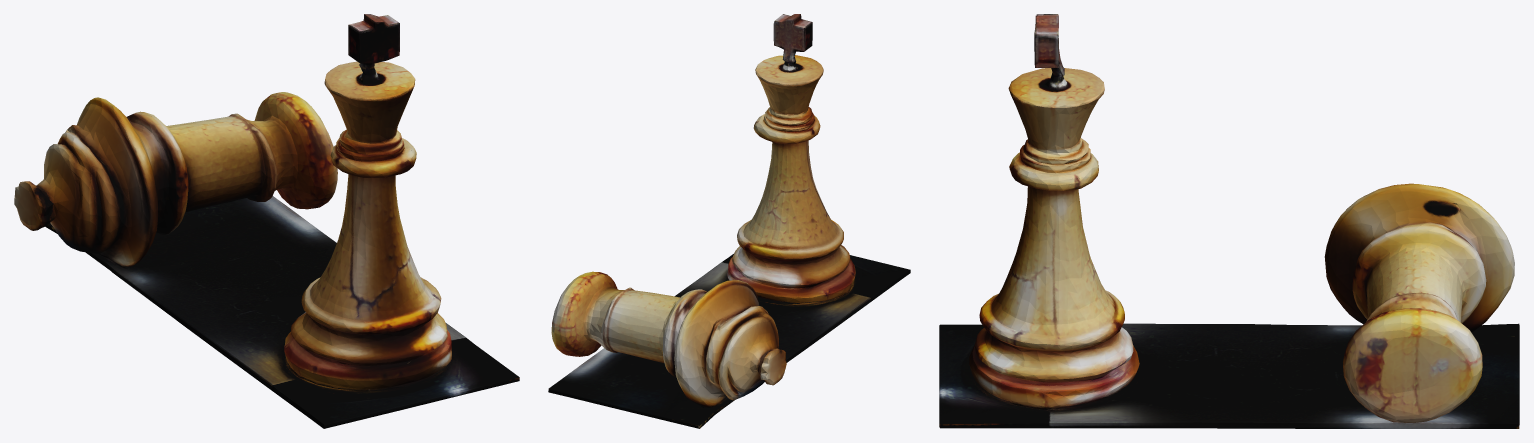
The model's file is porcelain-chess-piece-used-rustic-worn.jpeg.glb.
3 views of the same model, side by side, from view 1: azimuth 30°, elevation 25°; view 2: azimuth 150°, elevation 25°; view 3: azimuth 270°, elevation 25° (orthographic). The views are drawn at different scales.
Visible parts, largest first — view 1: world; view 2: world; view 3: world.
Boxes of the visible parts, x1,y1,x2,y2 form: world: [14, 14, 519, 428]; world: [548, 14, 910, 428]; world: [939, 14, 1519, 428].
Size of the model in its own units: 0.5738 by 0.6927 by 1.
1 material, 1 textured.
